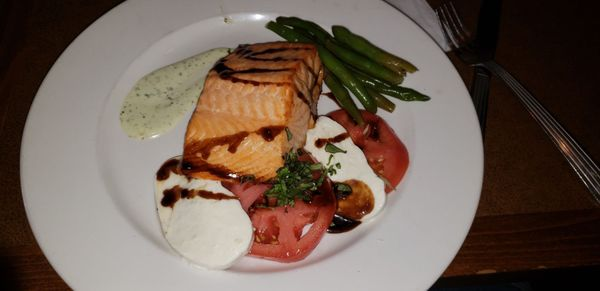burger: (426, 1, 600, 207)
